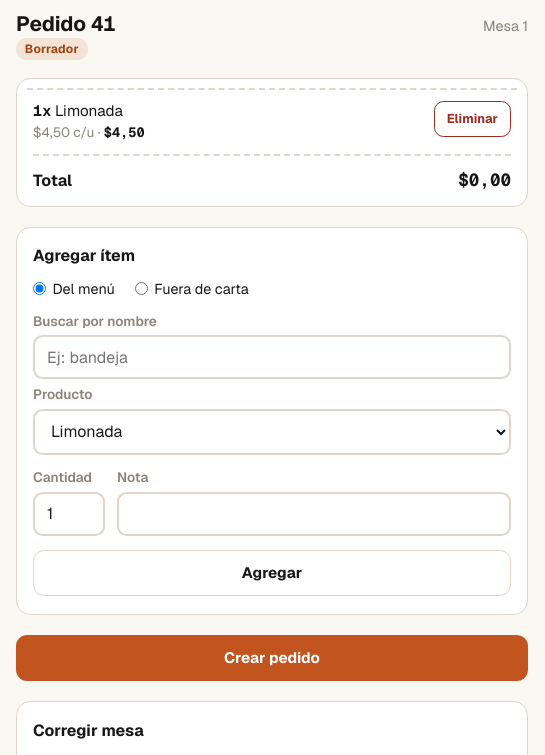
Scenario: OrderBuilder (T66, RF-3/4/5/6/7) › shows the error when removing an item fails
What coordinates should you click on to do the following:
click the button "Eliminar"
I would click on:
 (472, 119)
Its box is [434, 101, 511, 137].
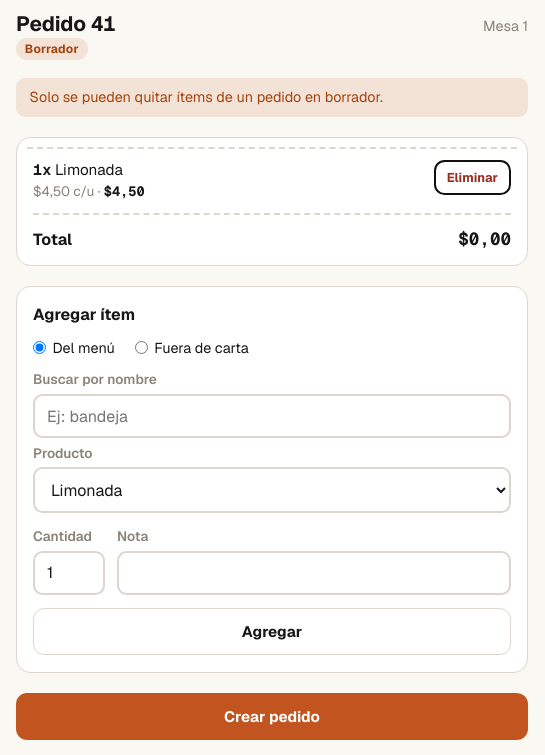
Expected: the text "Solo se pueden quitar ítems de un pedido en borrador." is shown, [16, 78, 528, 117]
